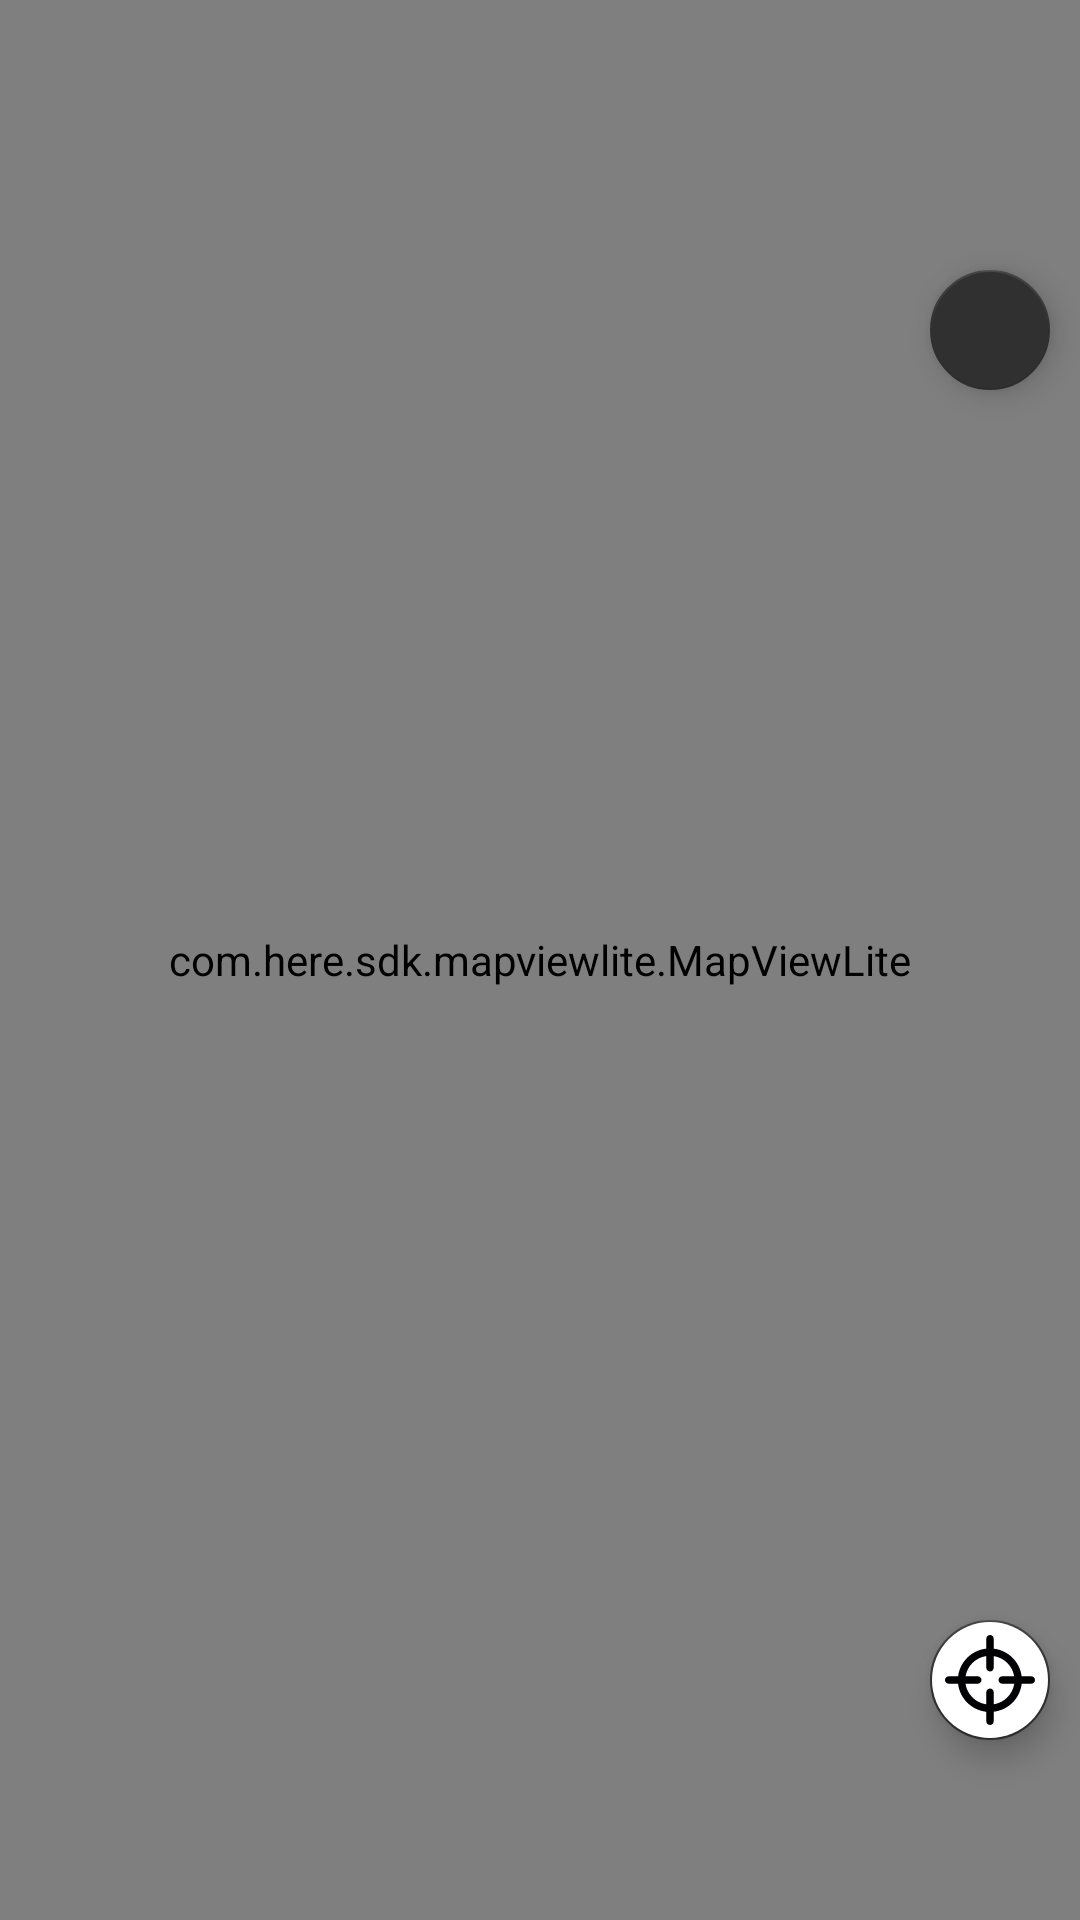

Where to tap for icons on this 1080*1920 app screen, as [x,y]:
current location pointer: [990,1680]
